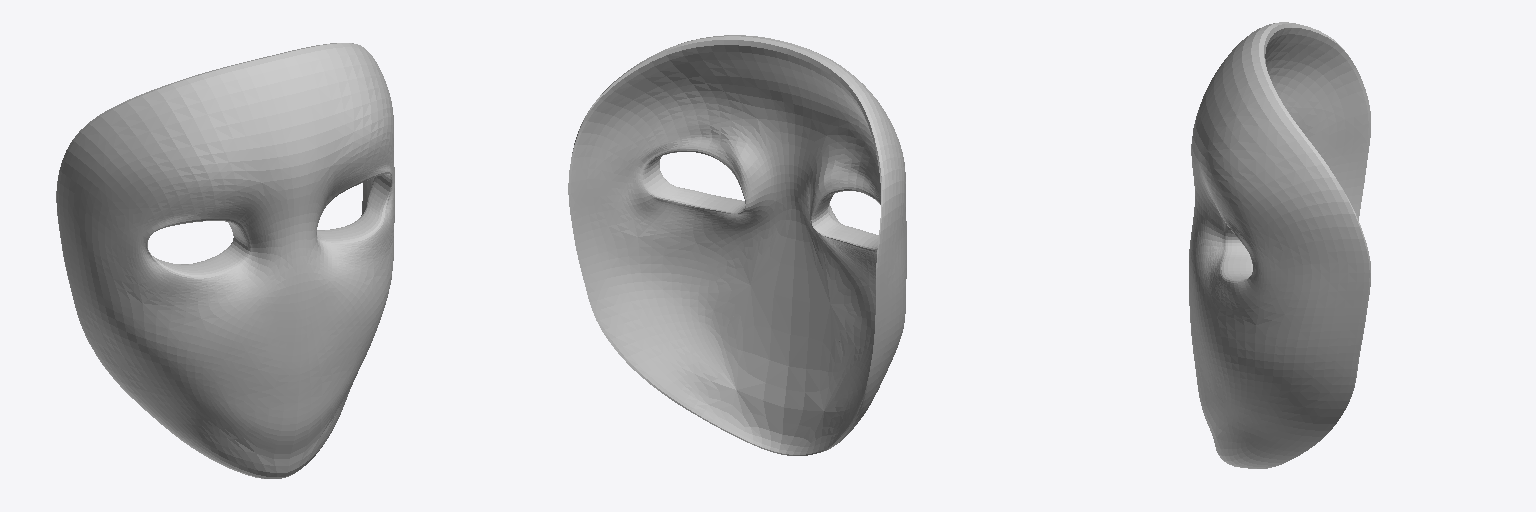
3 views of the same model, side by side, from view 1: azimuth 30°, elevation 25°; view 2: azimuth 150°, elevation 25°; view 3: azimuth 270°, elevation 25° (orthographic).
Visible parts, largest first — view 1: body_Circle; view 2: body_Circle; view 3: body_Circle.
Boxes of the visible parts, x1,y1,x2,y2 form: body_Circle: [56, 43, 394, 478]; body_Circle: [568, 35, 906, 455]; body_Circle: [1189, 22, 1370, 468].
Size of the model in its own units: 0.1637 by 0.208 by 0.0836.